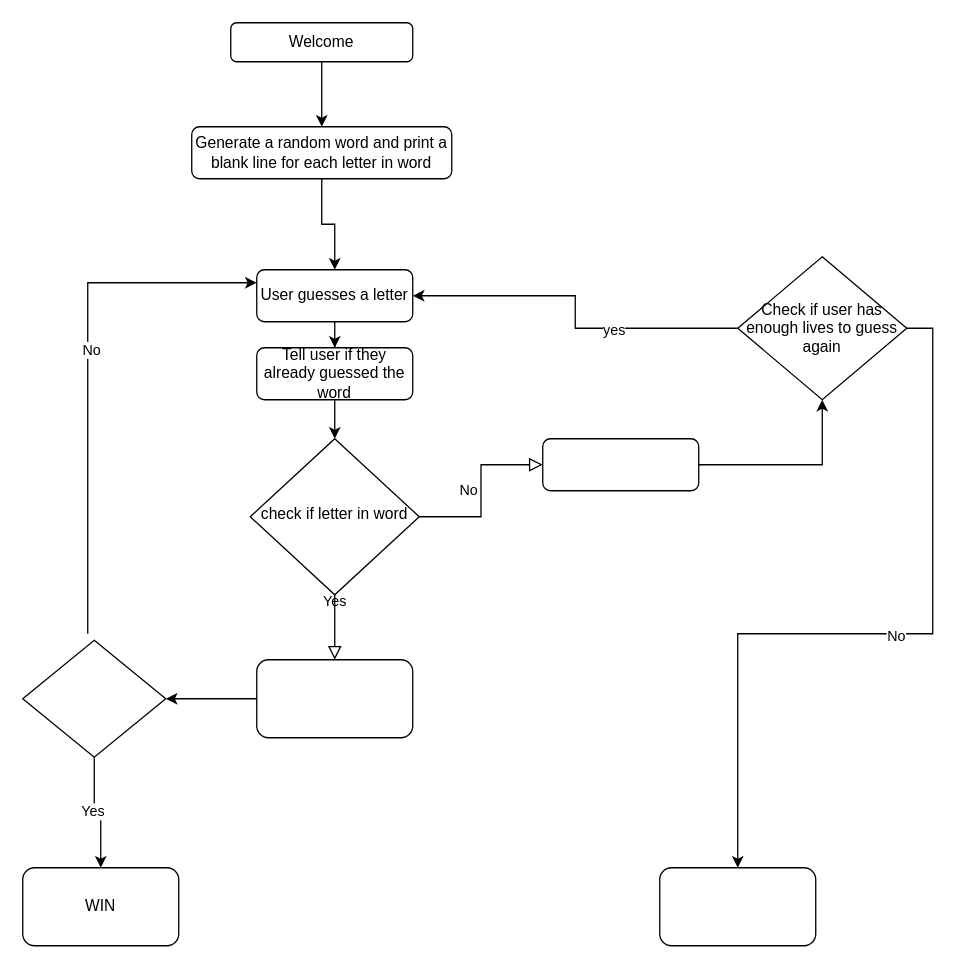
The diagram is 966 pixels wide and 968 high, and some of its shapes have lost their labels. Each missing label, with the centre of its shape:
"Check if all letters are shown" goes at (93,698).
"LOSE" goes at (737,906).
"Lose a life" goes at (620,464).
"Show letter(s) in word" goes at (334,698).
